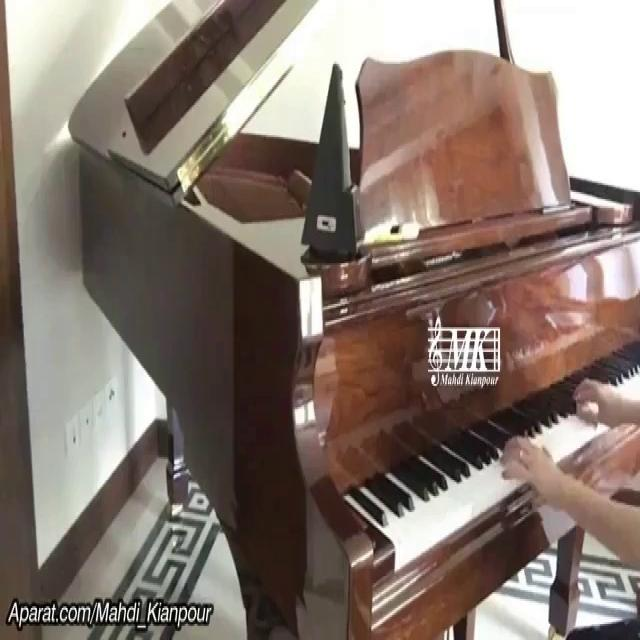Piano: (342, 321, 640, 586)
